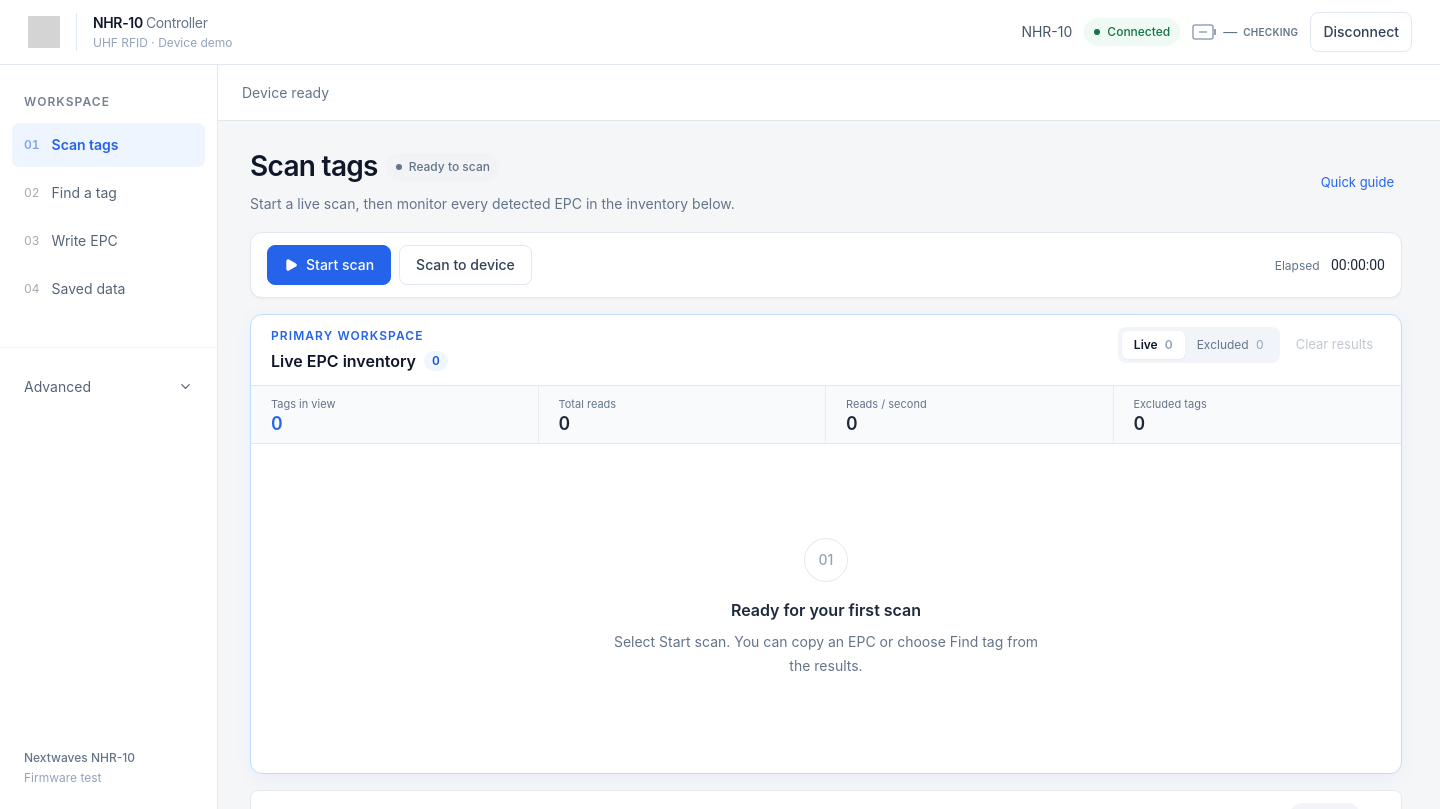
preserves read-only actual Region without selecting US or sending a write: {"cmd":"GF","status":"ok","val":"UNKNOWN","mode":"unknown","band":4,"min_ch":0,"max_c
Click the button "Advanced" at x=108, y=386, box [12,364,205,409]
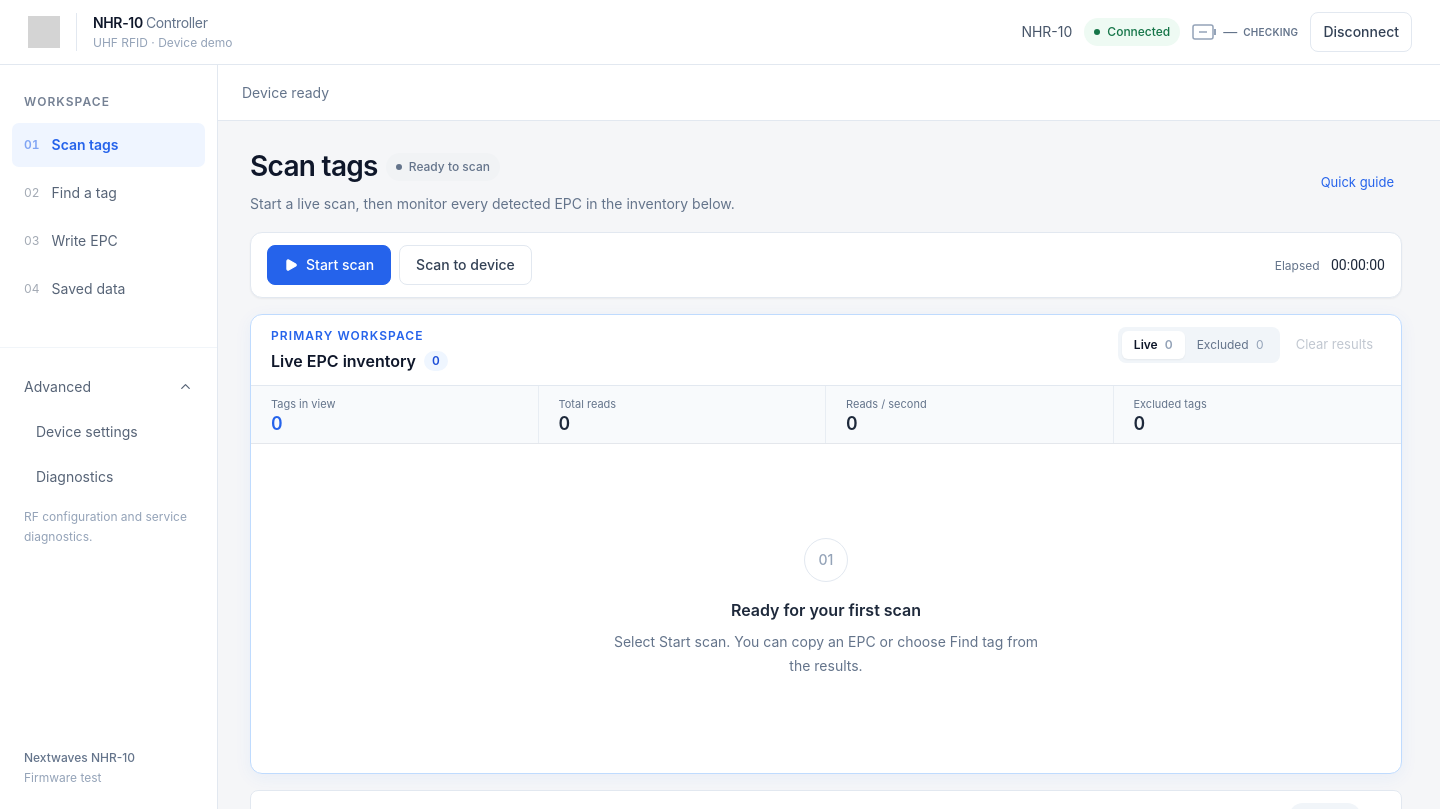
Click the button "Device settings" at x=108, y=432, box [12,409,205,454]
(page scrolled)
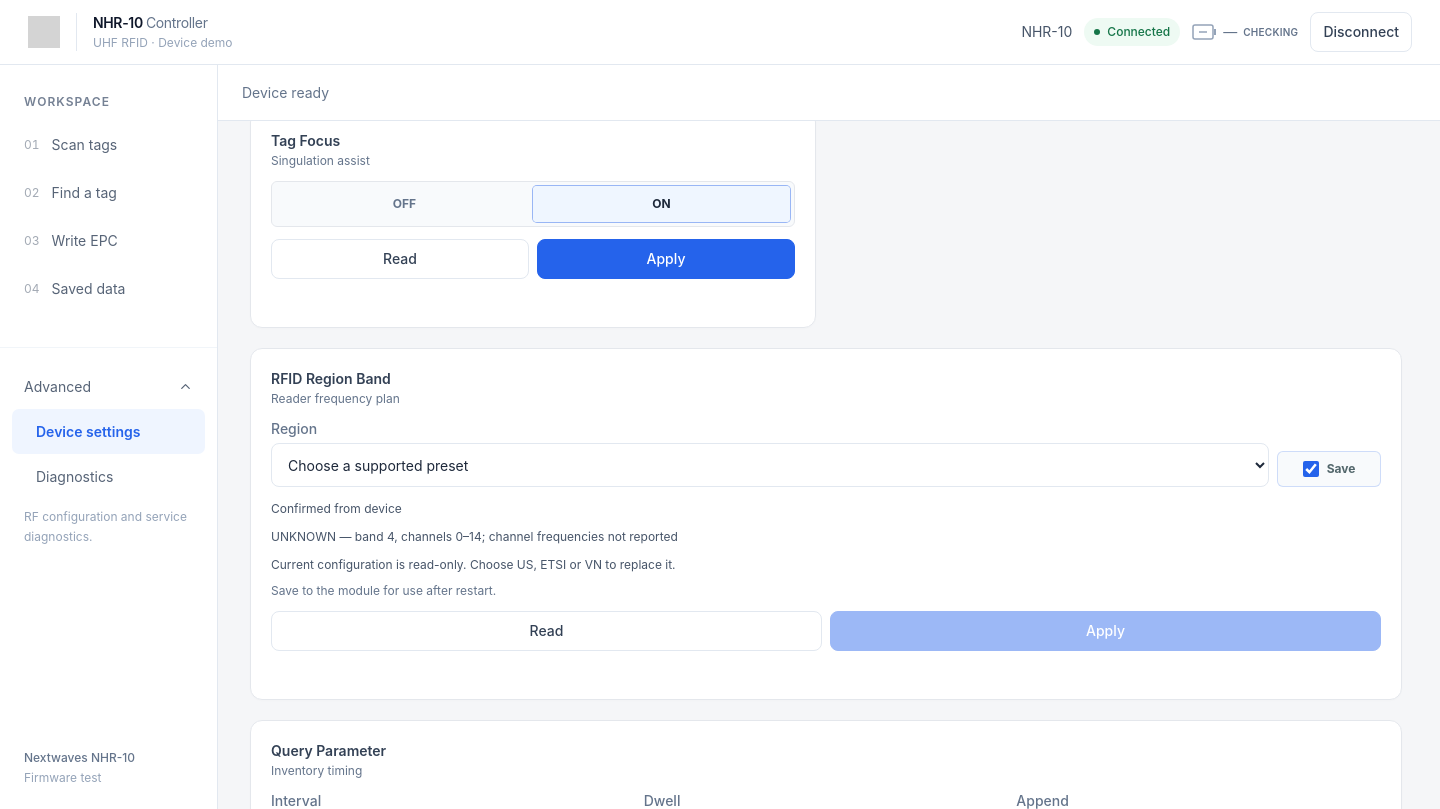
Check: the dropdown with id "setting-region" shows "Choose a supported preset"
Check: the element named "RFID Region Band" shows "read-only", box [271,557,676,572]
Check: the element named "RFID Region Band" shows "band 4", box [271,529,678,544]
Select "ETSI (865-868 MHz)" in the dropdown with id "setting-region" at x=770, y=465, box [271,443,1269,487]
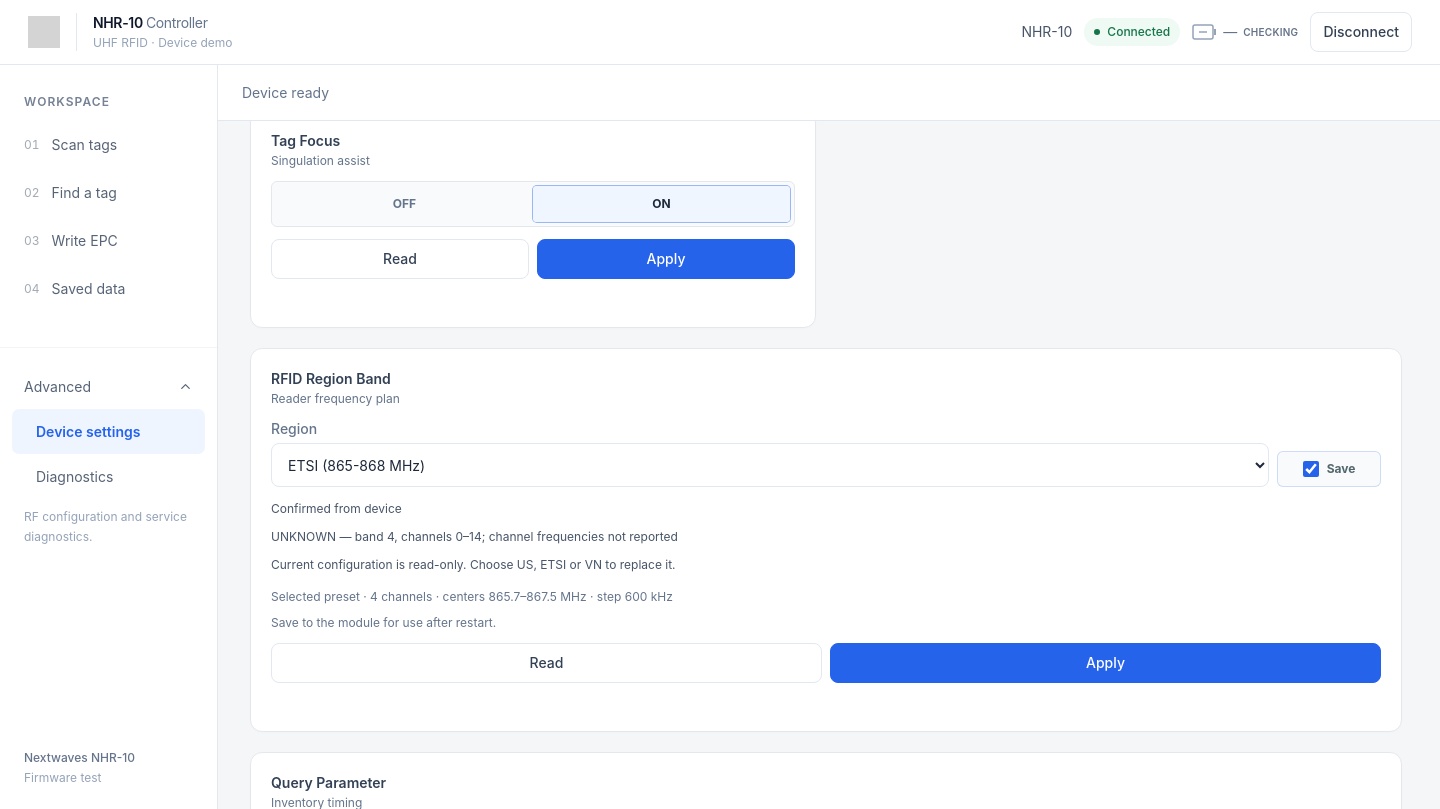
Check: the button "Apply" below "MHz · step" is enabled, box [830,643,1381,683]
